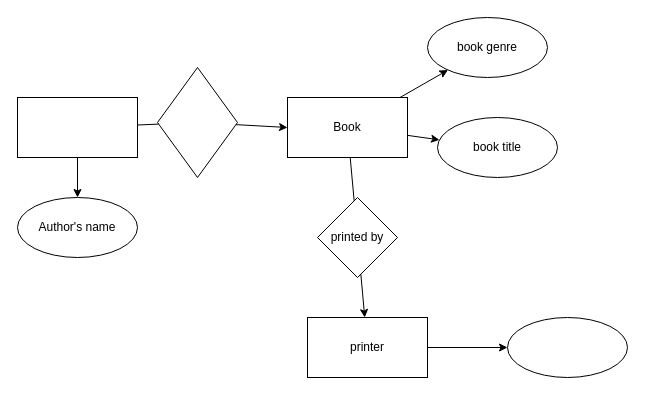
Image size: 645x395. Some labels were removed from this diagram. The shapes that lost their labels are listed below. From the top down, each one's centre as x and y in pixels, then its label:
At point 77,127: "Author".
At point 197,122: "writes relationships".
At point 567,347: "brand".
